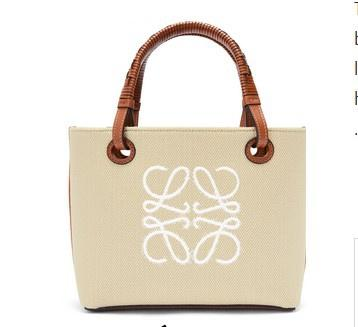LOEWE: (136, 161, 246, 269)
